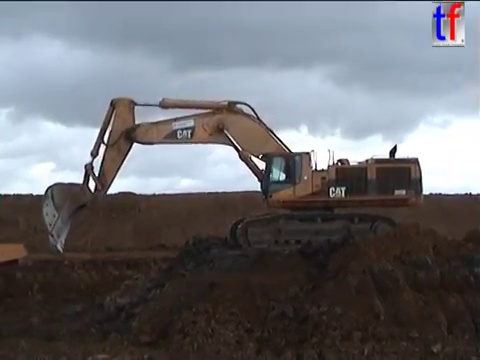excavator: (39, 93, 426, 259)
truck: (1, 239, 29, 270)
